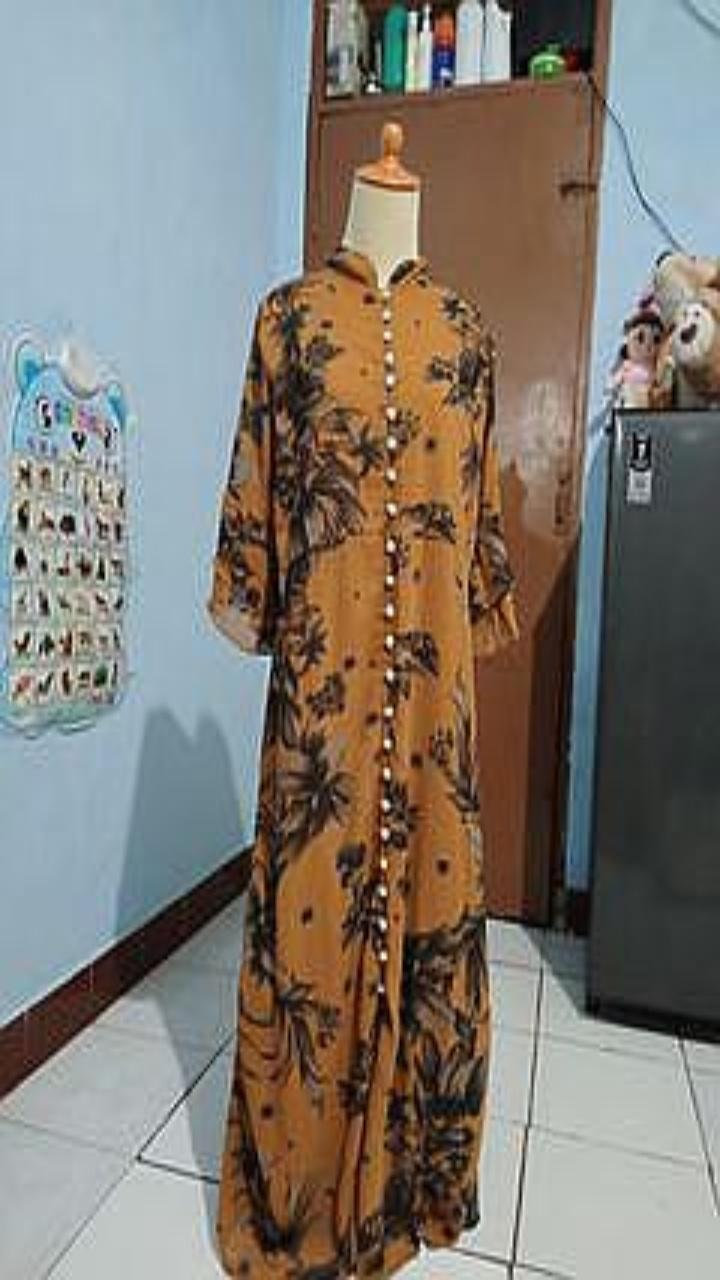Dresses: (209, 248, 517, 1279)
